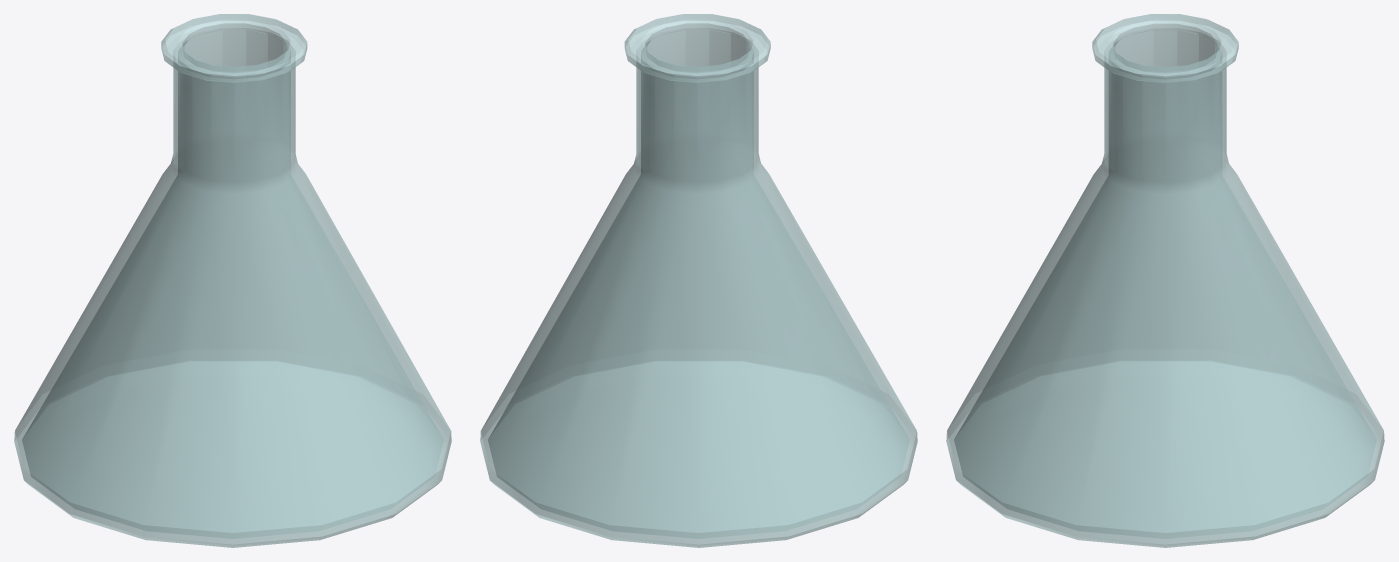
Rendered from beakerErlenmeyer.fbx.
The picture shows the model from 3 angles, left to right: view 1: azimuth 30°, elevation 25°; view 2: azimuth 150°, elevation 25°; view 3: azimuth 270°, elevation 25°; orthographic projection.
Visible parts, largest first — view 1: beakerErlenmeyer; view 2: beakerErlenmeyer; view 3: beakerErlenmeyer.
Part boxes in pixels (bbox=[...]): beakerErlenmeyer: bbox=[14, 14, 451, 547]; beakerErlenmeyer: bbox=[480, 14, 917, 547]; beakerErlenmeyer: bbox=[946, 14, 1384, 547].
Size of the model in its own units: 46.52 by 49.52 by 46.77.
